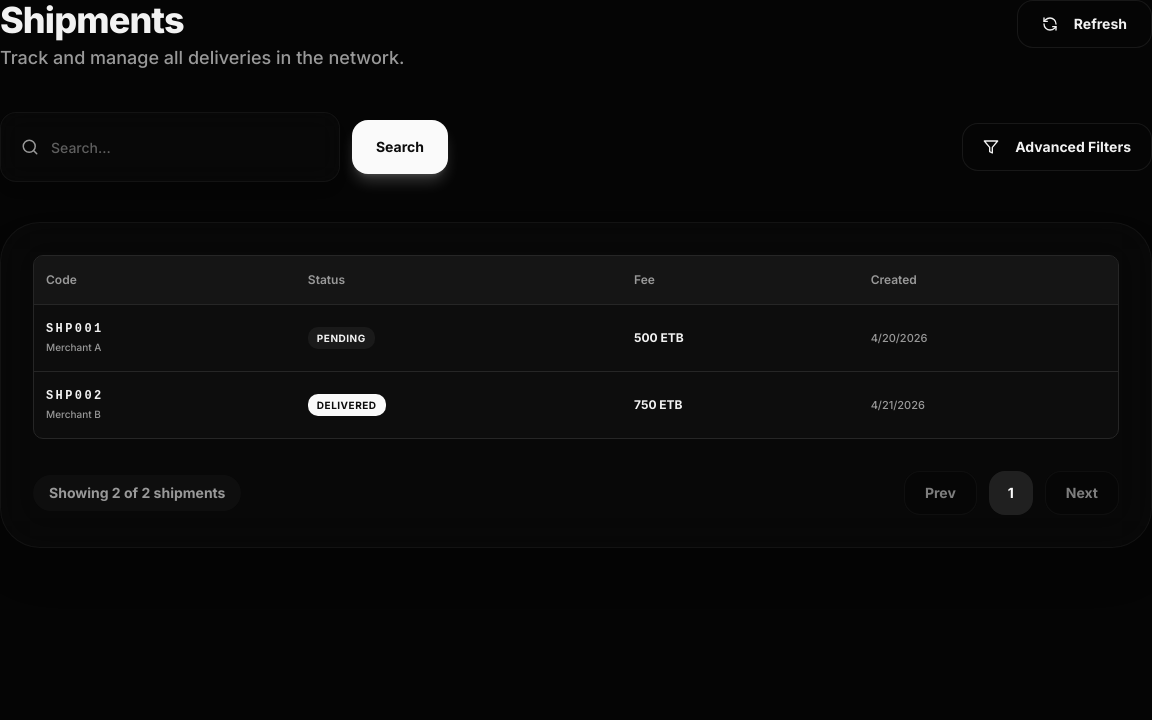
Test: AdminShipmentsPage › shows no-history empty state on 404 and does not show an error retry button
Click the text "SHP001".
click(75, 329)  # box x1=46 y1=322 x2=104 y2=336
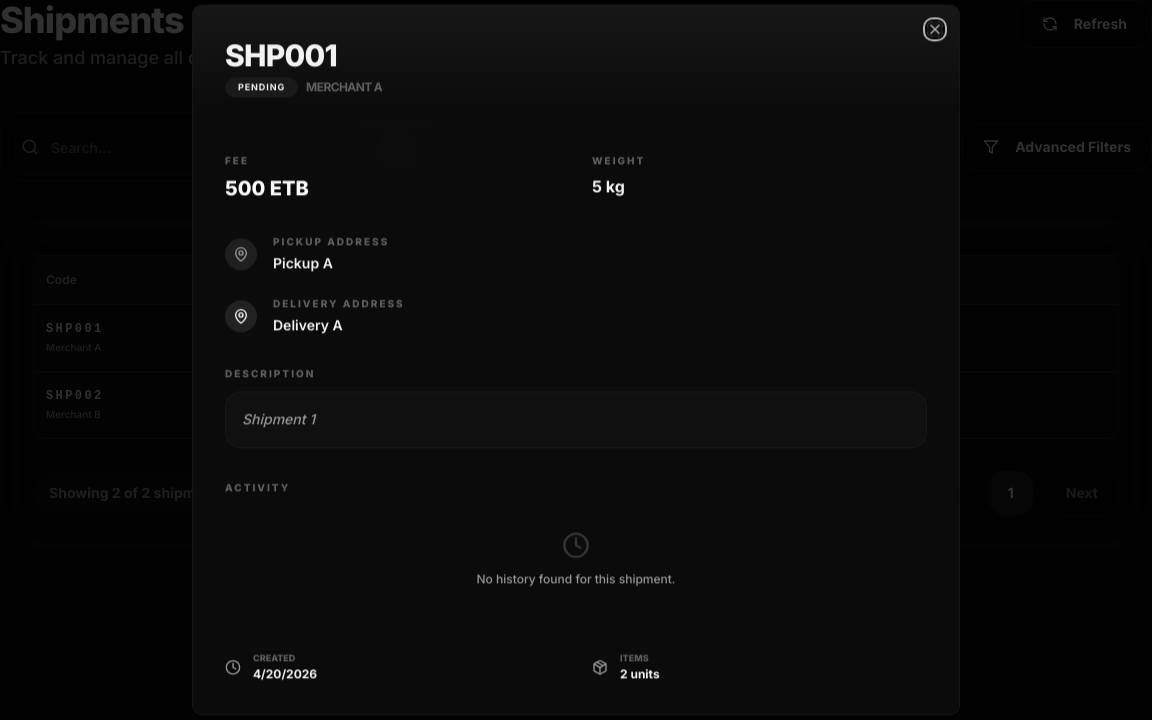
Expected: the text "No history found for this shipment." is shown, x1=476 y1=571 x2=676 y2=587
